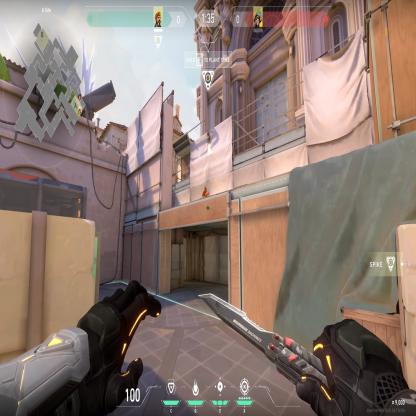enemy: (202, 184, 209, 198)
